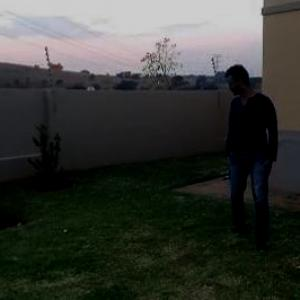follow: (219, 58, 284, 252)
